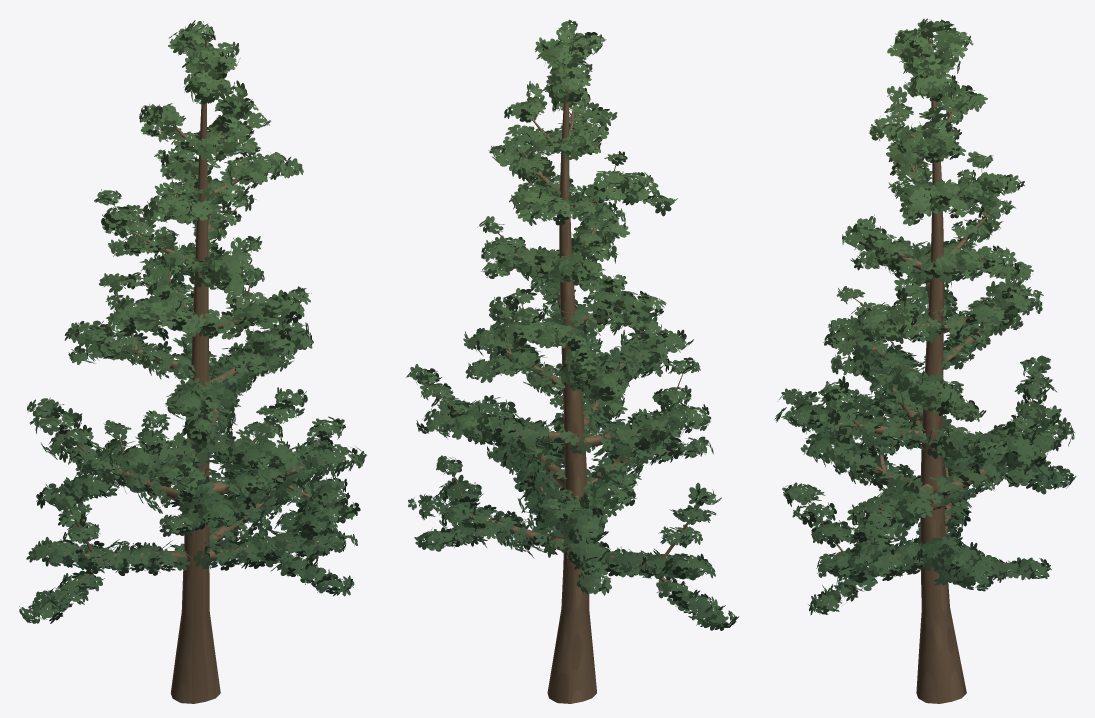
File: tree.gltf
3 renders of one model, left to right at view 1: azimuth 30°, elevation 25°; view 2: azimuth 150°, elevation 25°; view 3: azimuth 270°, elevation 25°, orthographic.
Visible parts, largest first — view 1: Tree_LOD0; view 2: Tree_LOD0; view 3: Tree_LOD0.
Part boxes in pixels (x1,y1,x2,y2): Tree_LOD0: [19, 20, 366, 703]; Tree_LOD0: [406, 19, 738, 703]; Tree_LOD0: [774, 18, 1076, 703].
Bounding box in the file's own units: 11.42 × 23.21 × 9.6.
Materials: 2 (2 with a texture image).
